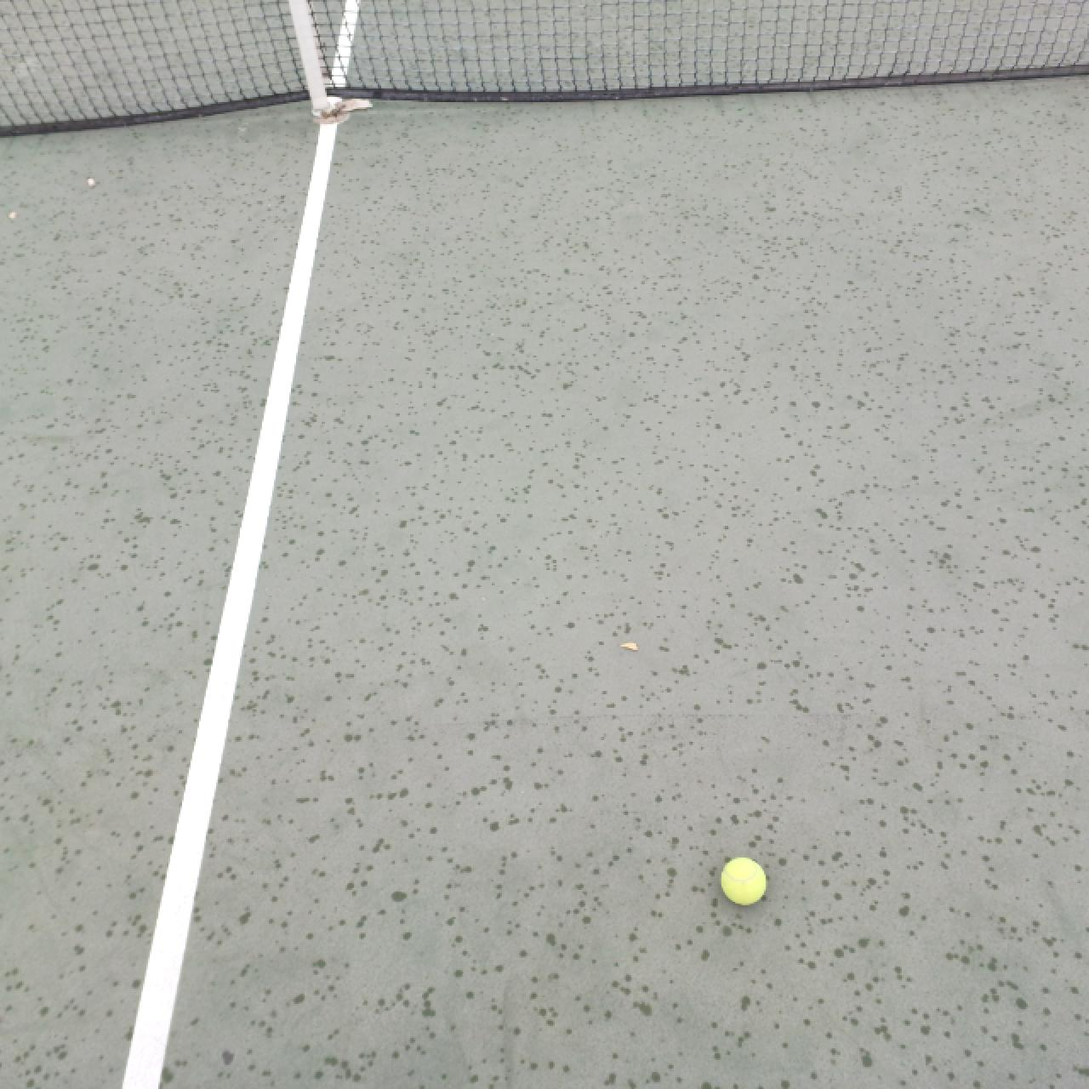tennis-ball: (719, 854, 765, 907)
